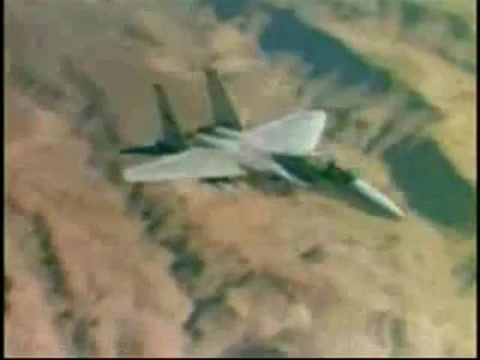aeroplane: (120, 64, 408, 224)
